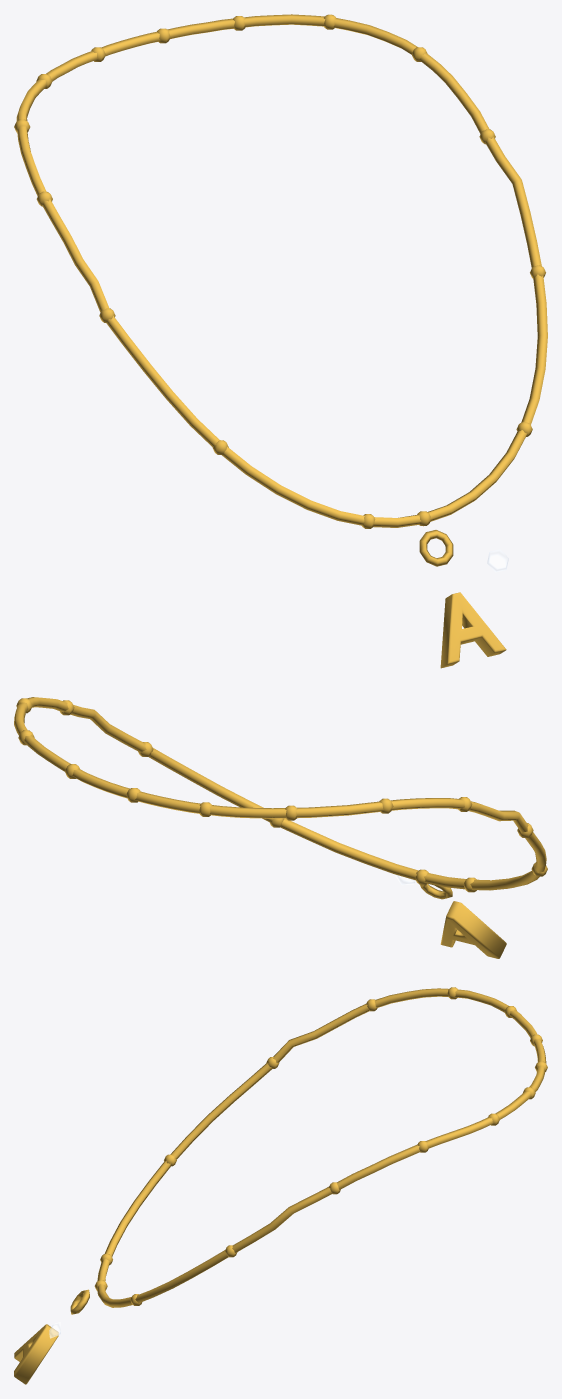
The model's file is initial_necklace_a.glb.
3 views of the same model, one above another, from view 1: azimuth 30°, elevation 25°; view 2: azimuth 150°, elevation 25°; view 3: azimuth 270°, elevation 25° (orthographic). The views are drawn at different scales.
Parts seen in each view (by area): view 1: initial_necklace_a; view 2: initial_necklace_a; view 3: initial_necklace_a.
Boxes of the visible parts, <box> form: initial_necklace_a: <box>14,14,547,668</box>; initial_necklace_a: <box>14,697,547,958</box>; initial_necklace_a: <box>14,987,547,1384</box>.
Size of the model in its own units: 0.0912 by 0.0799 by 0.1213.
